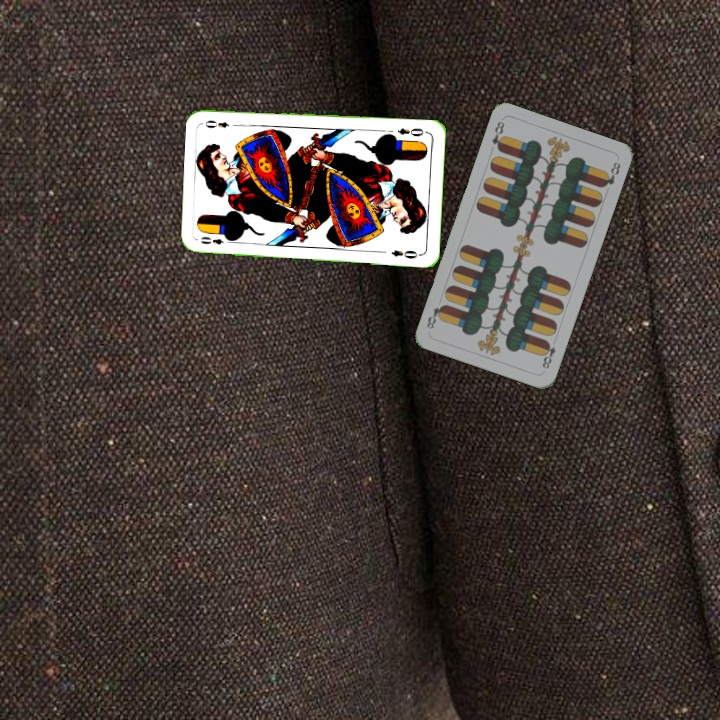E8: (488, 117, 508, 154), (538, 337, 558, 373)
EO: (196, 232, 235, 247), (393, 124, 430, 139)
